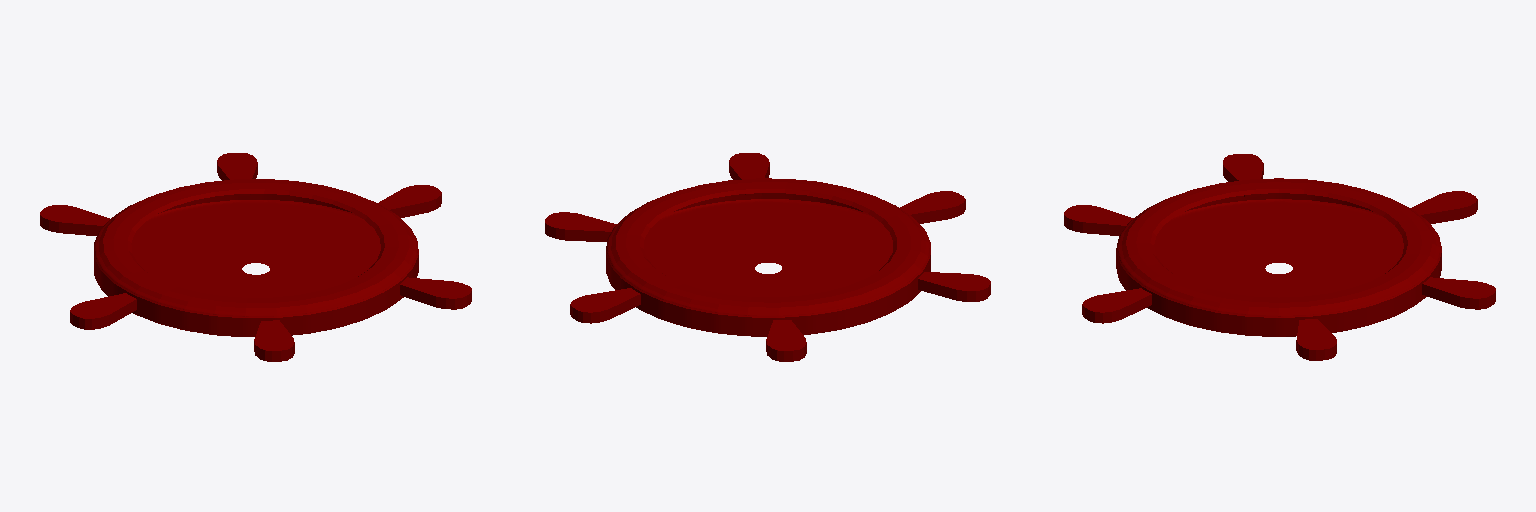
Rendered from meja2-5.obj.
The picture shows the model from 3 angles: view 1: azimuth 30°, elevation 25°; view 2: azimuth 150°, elevation 25°; view 3: azimuth 270°, elevation 25°; orthographic projection.
Visible parts, largest first — view 1: Cube.078_Cube.353_Cube.078_Cube.001; view 2: Cube.078_Cube.353_Cube.078_Cube.001; view 3: Cube.078_Cube.353_Cube.078_Cube.001.
Boxes of the visible parts, box(x1,y1,x2,y2) form: Cube.078_Cube.353_Cube.078_Cube.001: box(40, 153, 471, 361); Cube.078_Cube.353_Cube.078_Cube.001: box(545, 153, 990, 361); Cube.078_Cube.353_Cube.078_Cube.001: box(1064, 154, 1495, 360).
Bounding box in the file's own units: 5.53 × 0.3525 × 5.15.